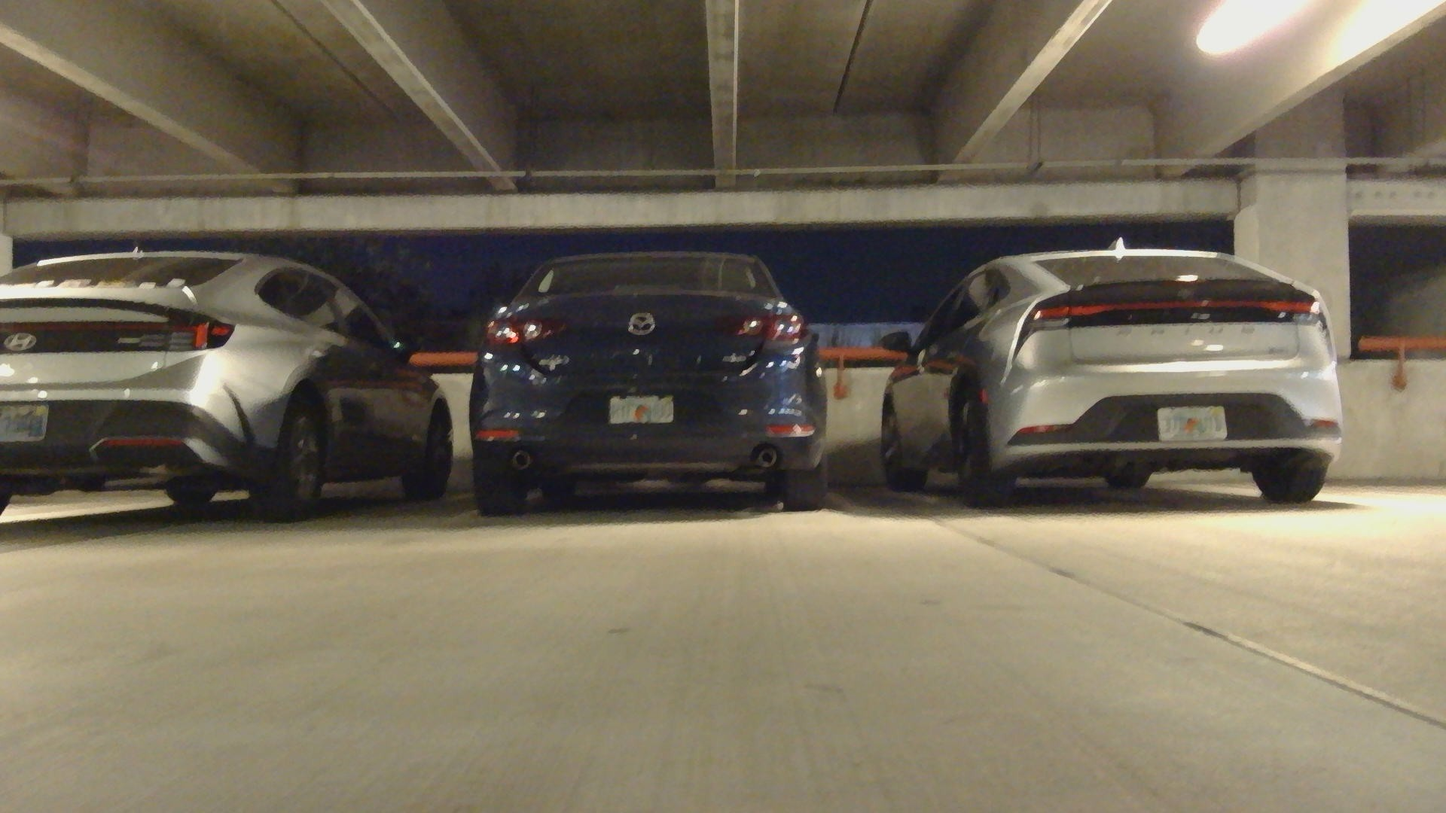occupied_spot: (871, 239, 1353, 532), (0, 237, 459, 534), (466, 241, 842, 525)
